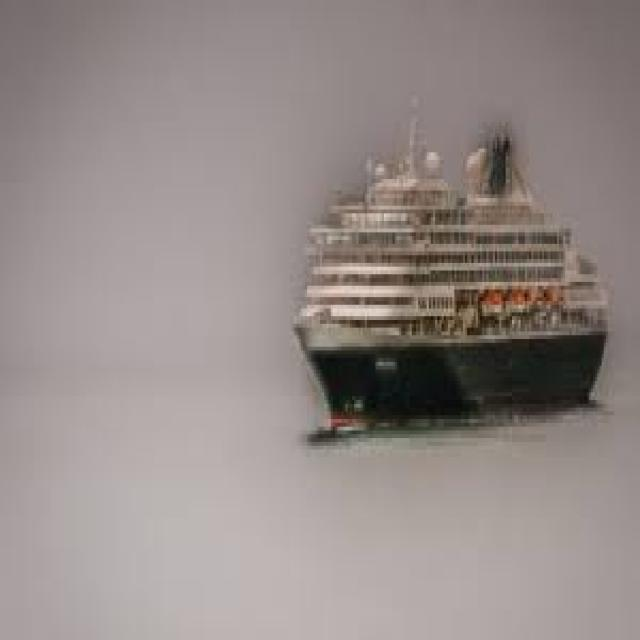passenger ship: (293, 123, 606, 425)
